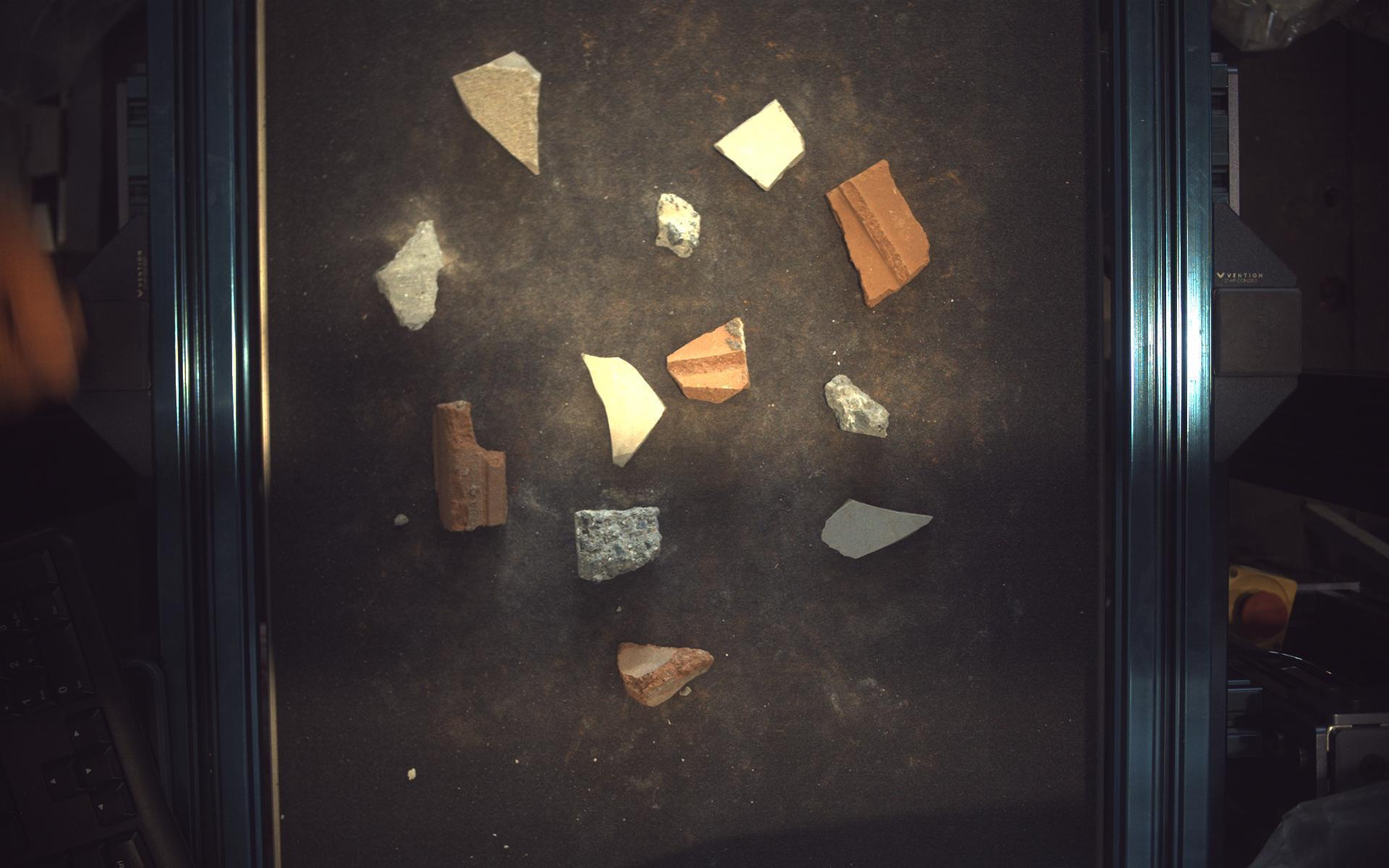brick: (829, 159, 931, 307), (433, 401, 508, 532), (668, 317, 751, 403), (618, 643, 715, 707)
concrete: (374, 220, 443, 331), (575, 508, 662, 582), (826, 375, 891, 438), (657, 192, 701, 258)
tile: (453, 50, 541, 174), (583, 353, 666, 467), (715, 99, 806, 190), (823, 500, 934, 559)
